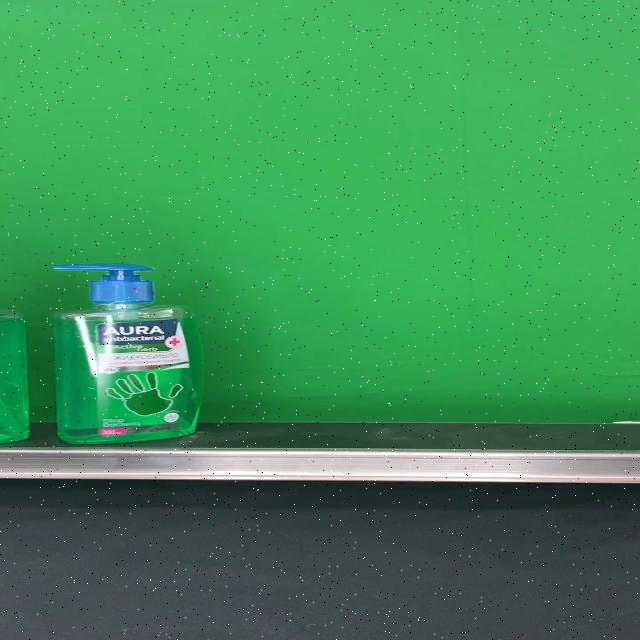Bottle: (50, 264, 204, 445)
Cap: (54, 264, 152, 306)
